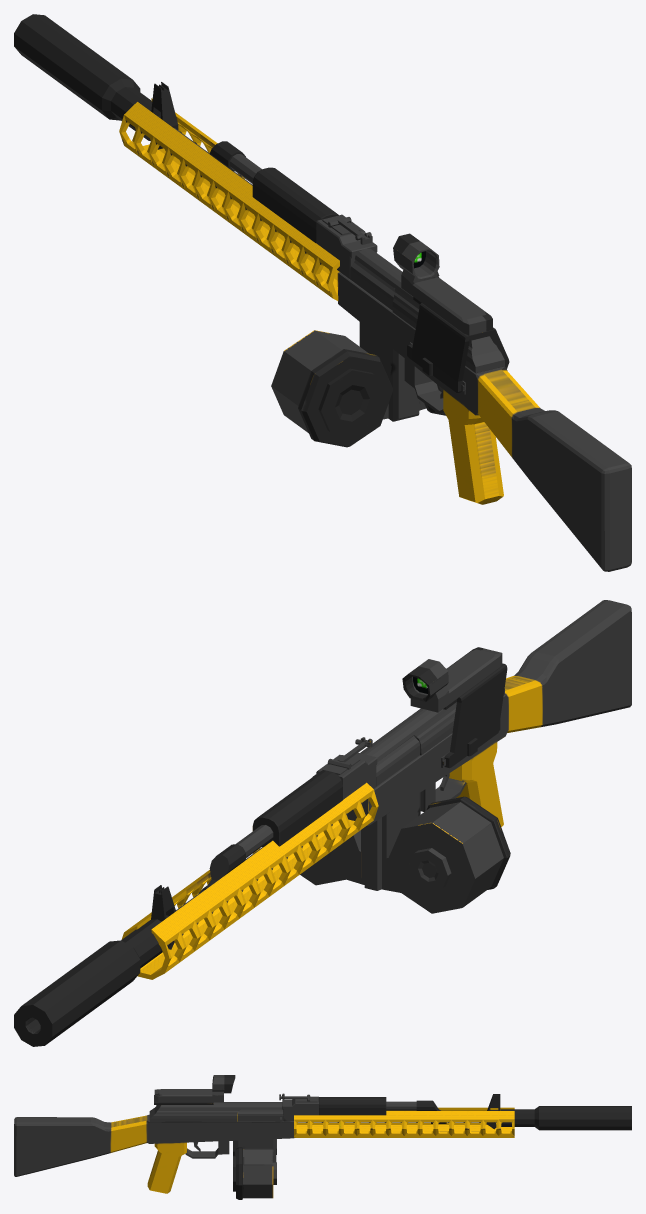
The model's file is AKBig.fbx.
3 renders of one model, top to bottom at view 1: azimuth 30°, elevation 25°; view 2: azimuth 150°, elevation 25°; view 3: azimuth 270°, elevation 25°, orthographic. The views are drawn at different scales.
Visible parts, largest first — view 1: Mag; view 2: Mag; view 3: Mag.
Boxes of the visible parts, x1,y1,x2,y2 form: Mag: [14, 14, 631, 571]; Mag: [14, 600, 631, 1046]; Mag: [14, 1075, 631, 1199].
Bounding box in the file's own units: 87.45 × 86.95 × 427.
Materials: 1 (1 with a texture image).
